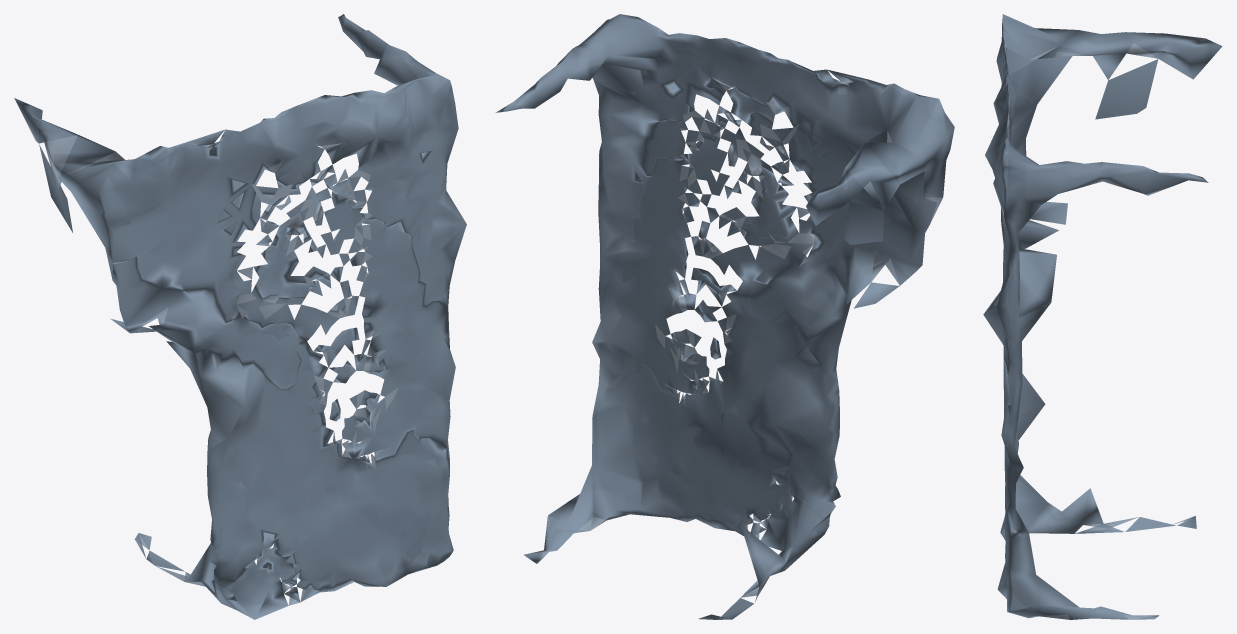
File: table_0218_recon.obj
3 views of the same model, side by side, from view 1: azimuth 30°, elevation 25°; view 2: azimuth 150°, elevation 25°; view 3: azimuth 270°, elevation 25° (orthographic). The views are drawn at different scales.
Size of the model in its own units: 1.06 by 1.39 by 0.642.
